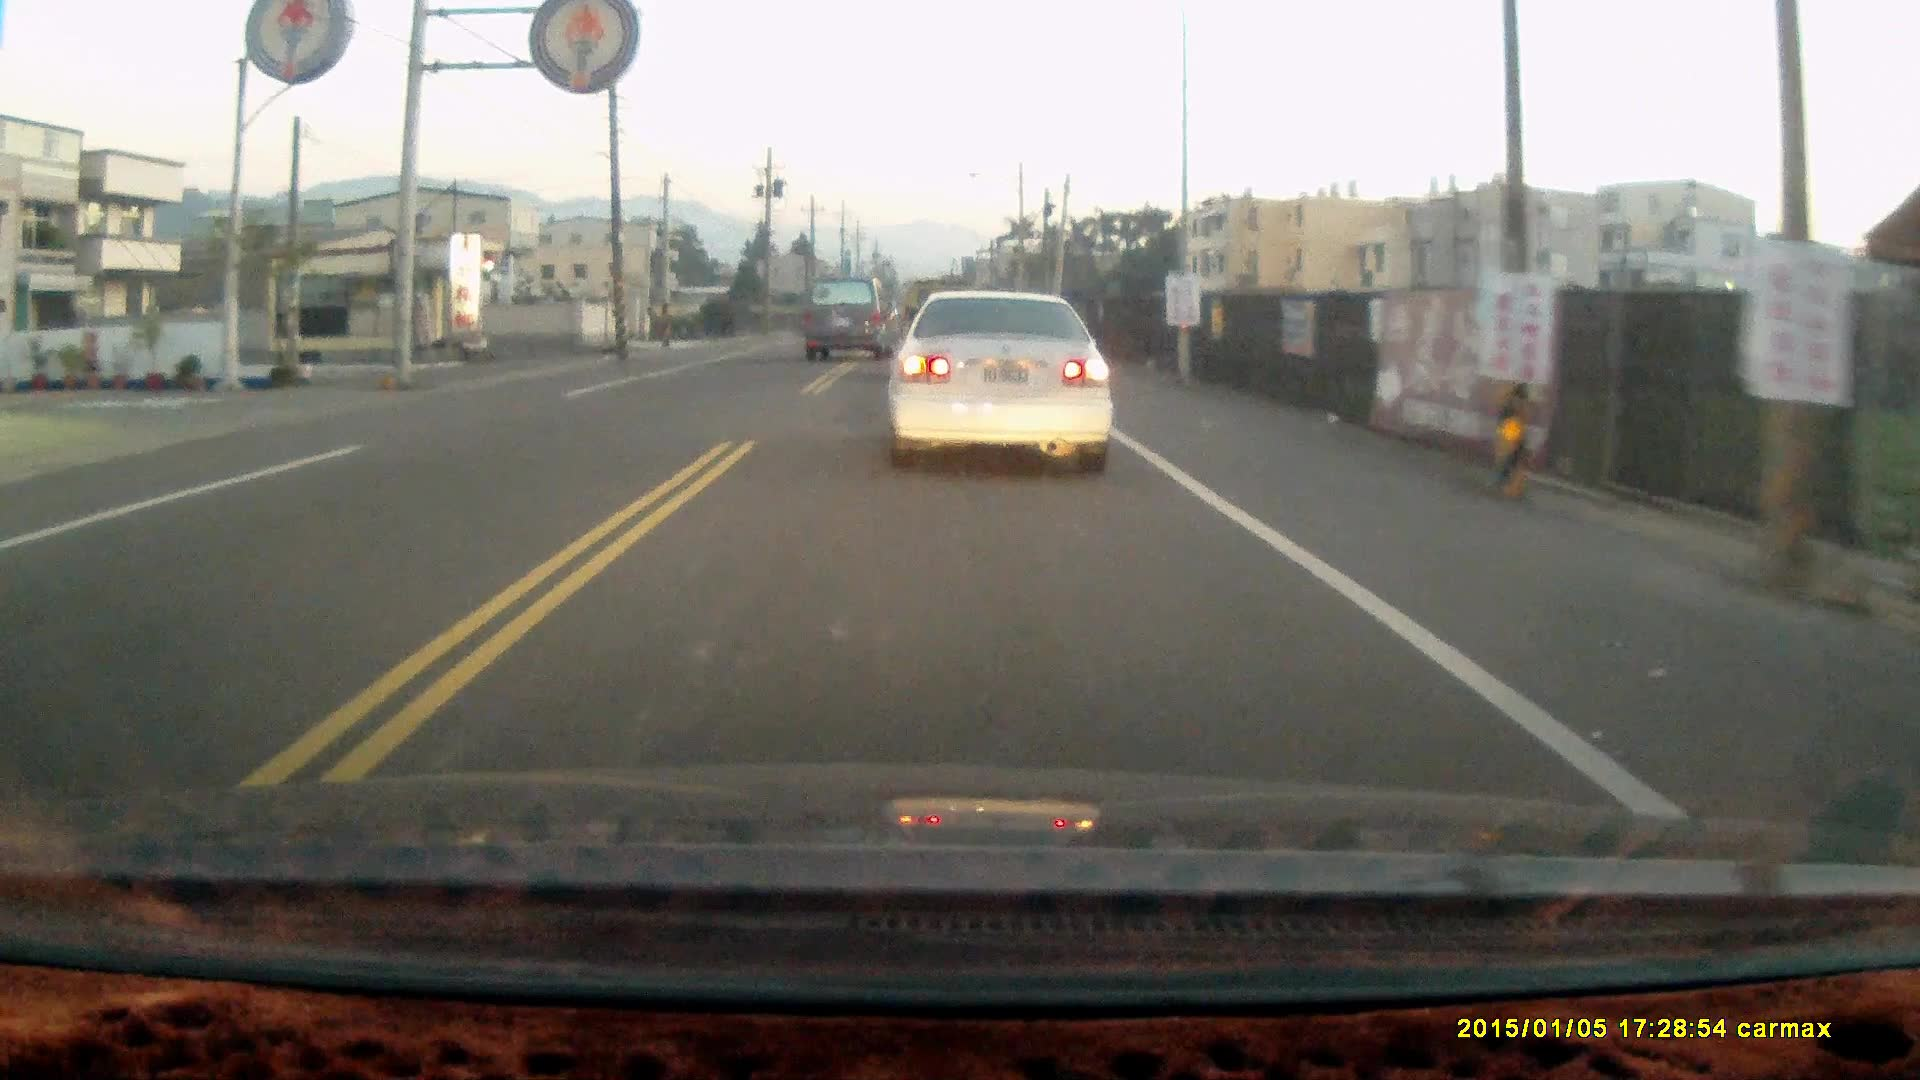vehicle: (884, 290, 1125, 480), (798, 272, 898, 364)
